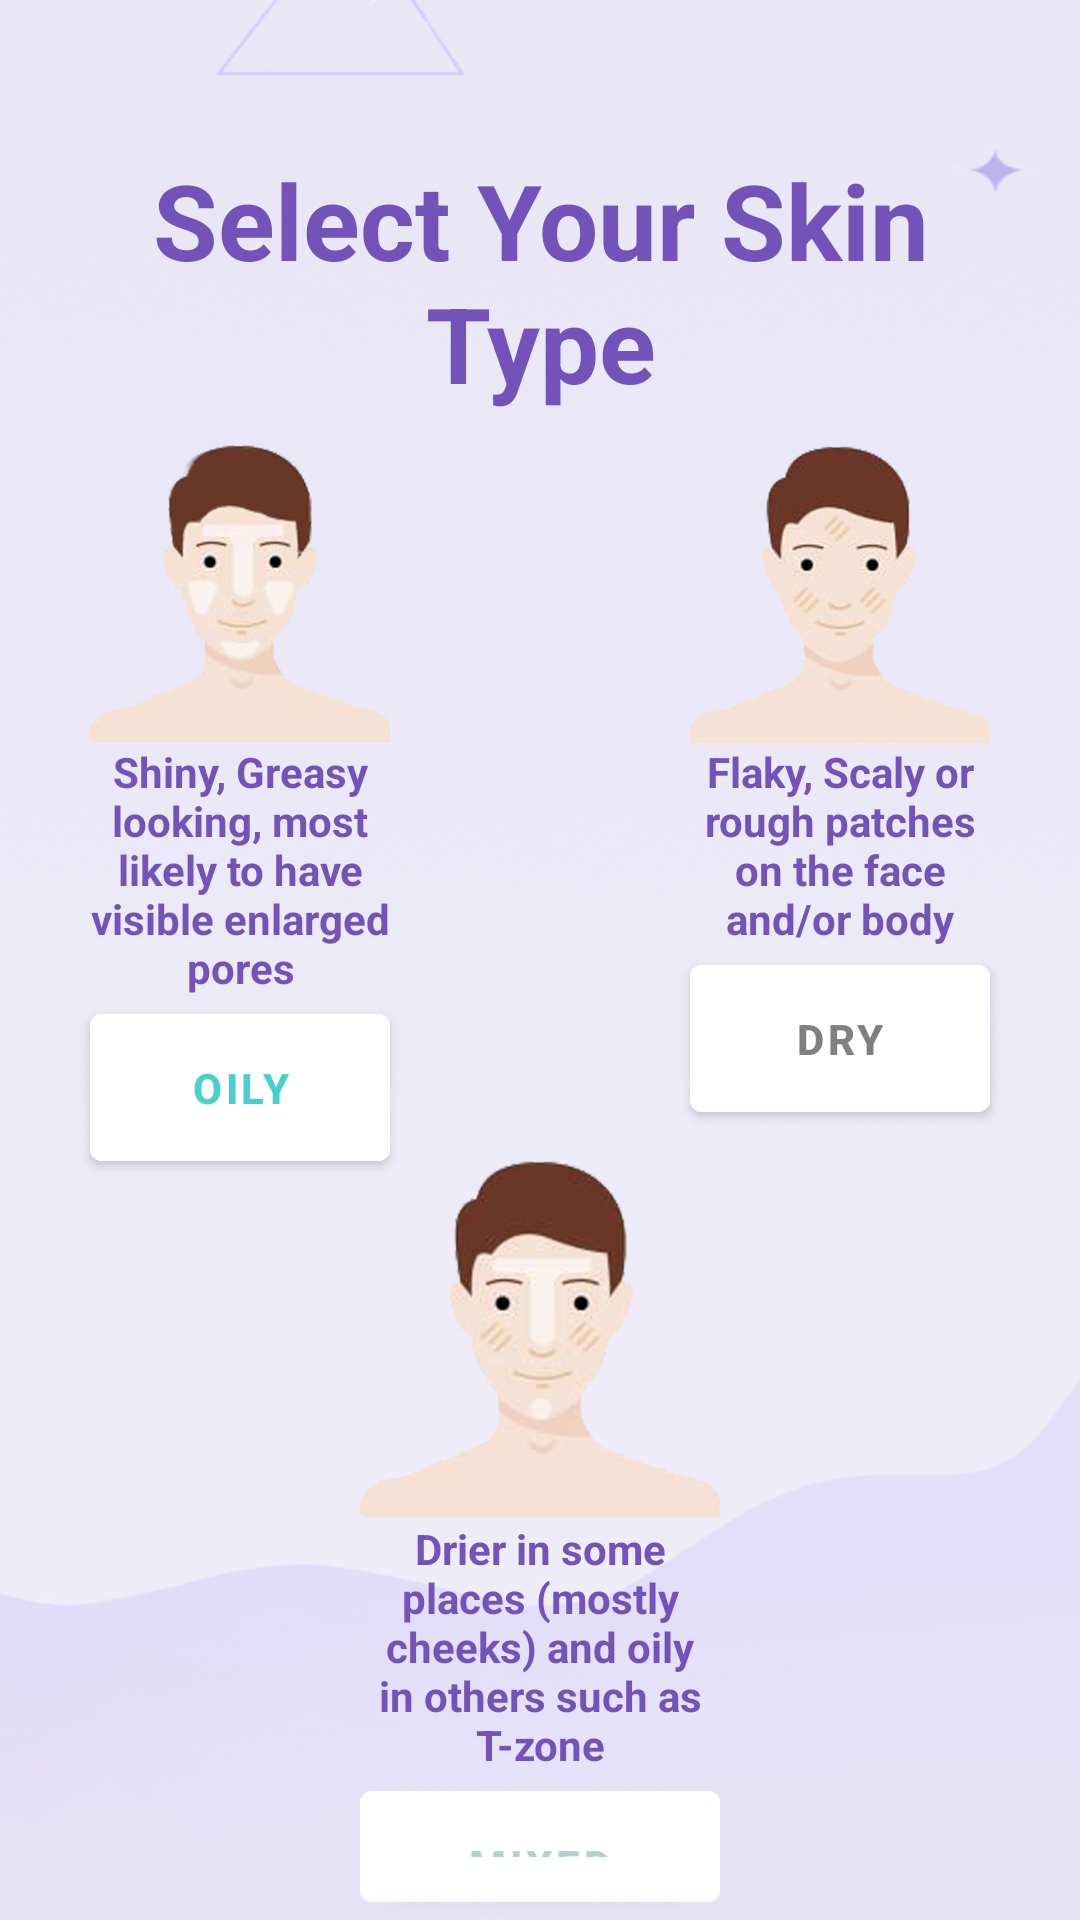

Named icons in this screenshot (1080 × 1920) and their centers, [x,y]:
maledry: [840,594]
malemixedpic: [540,1339]
maleoilypic: [240,593]
